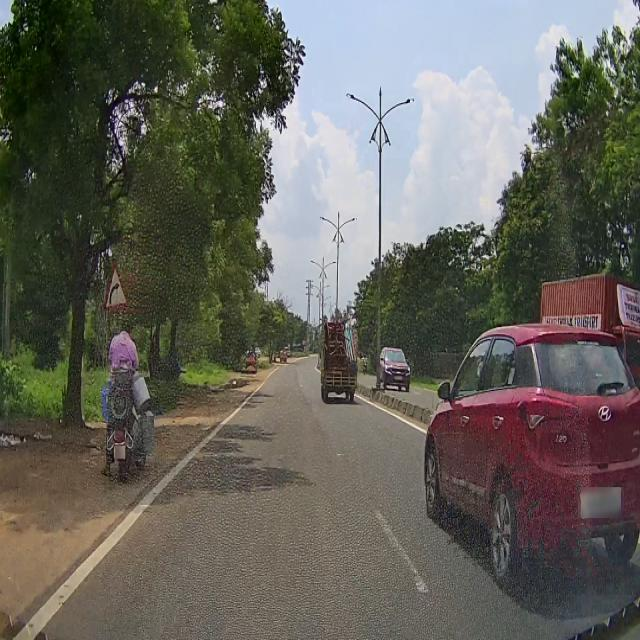car ahead at: (421, 322, 640, 580)
motorcycle ahead at: (101, 381, 148, 475)
truck ahead at: (324, 315, 362, 397)
